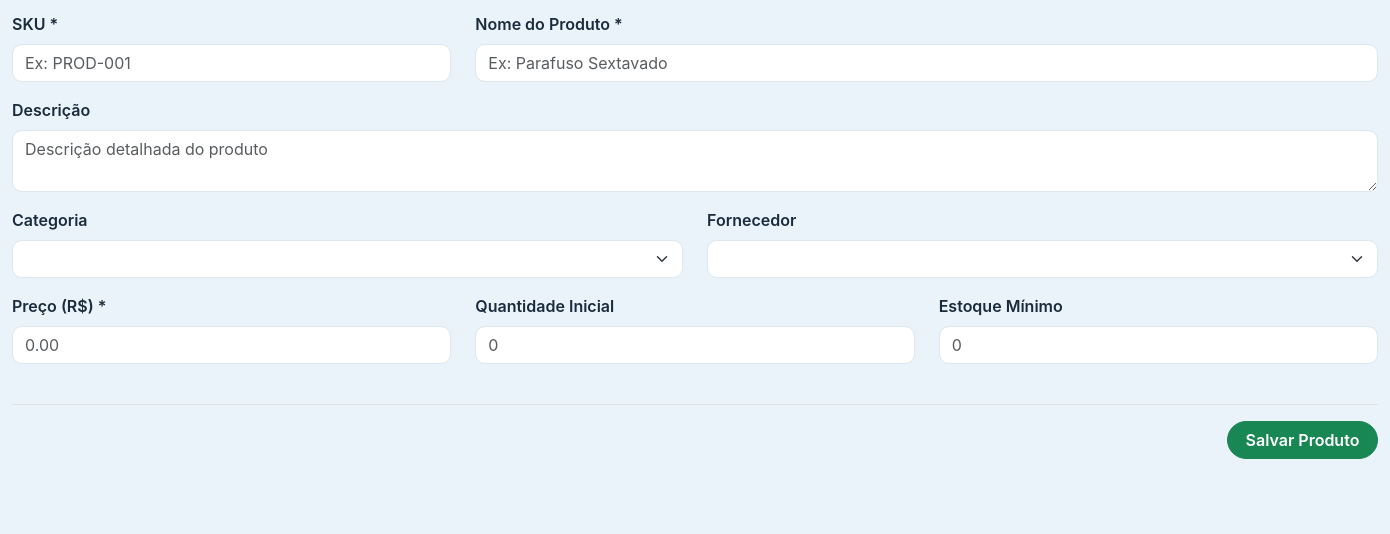
Test: Organism FormCreateProduct › deve exibir mensagem de erro de validação se campos obrigatórios não forem preenchidos
The image size is (1390, 534).
Click the button "Salvar Produto" at [1302, 440], box 1227,421 -> 1378,459
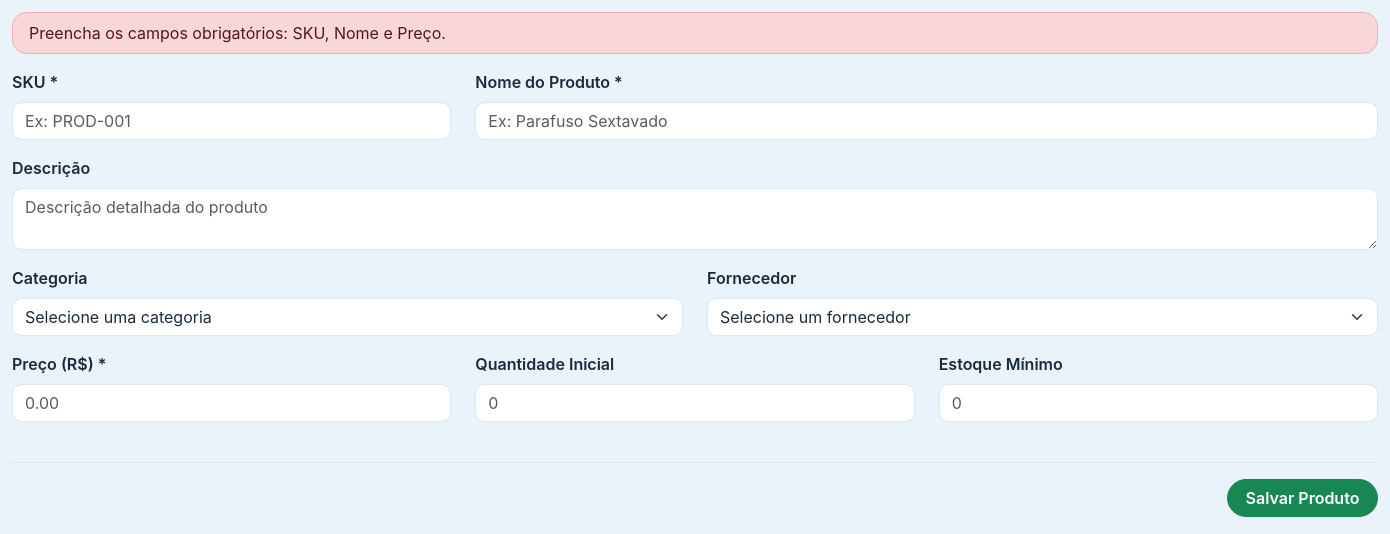
Result: the text "Preencha os campos obrigatórios: SKU, Nome e Preço." is shown at 12,12 -> 1378,54
